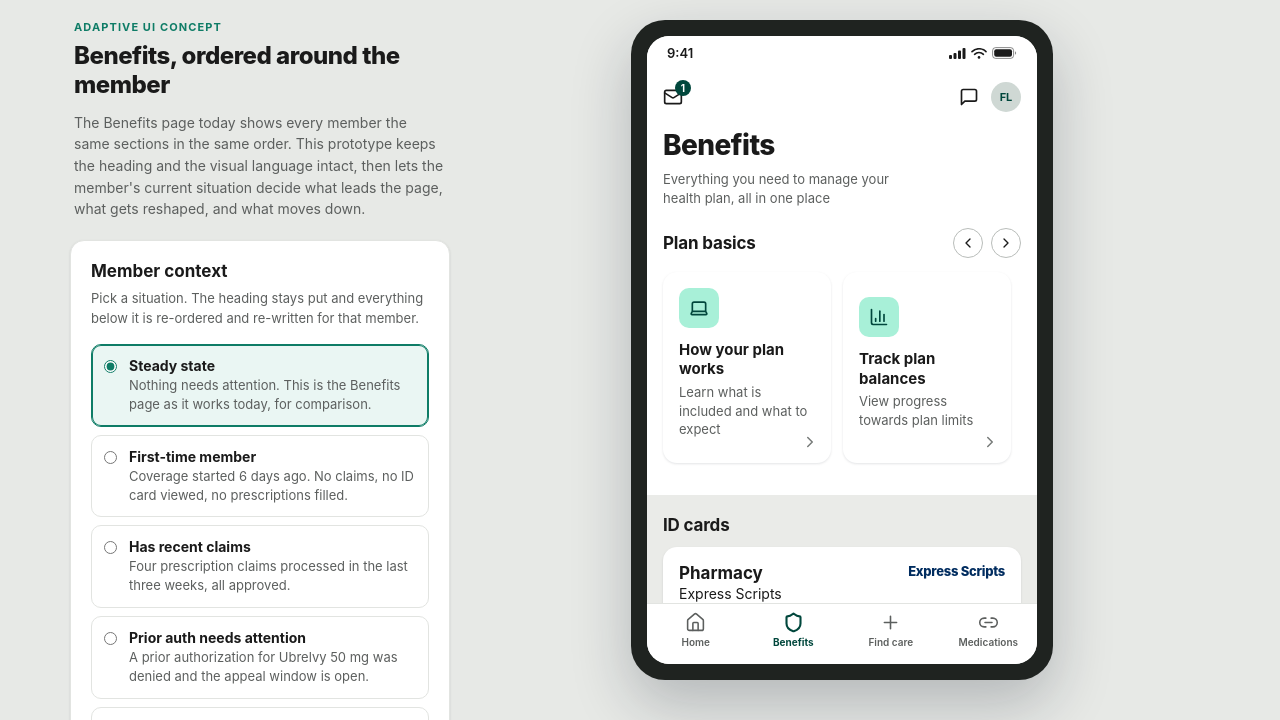
Test: App › opens a sub-page from a card and comes back
Click the button "How your plan works". click: (747, 367)
box: left=663, top=272, right=831, bottom=463
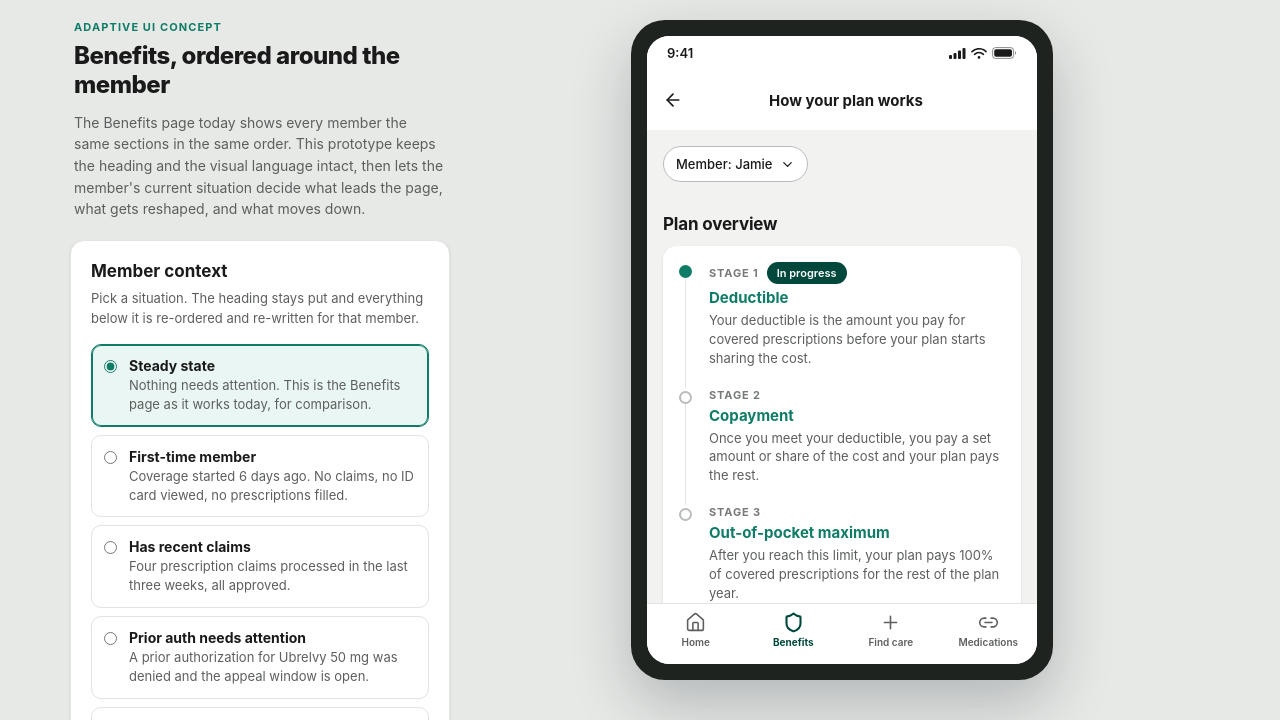
Check: the heading "How your plan works" is shown, box left=769, top=90, right=923, bottom=110
Click the button named "back". click: (673, 100)
box: left=655, top=82, right=691, bottom=118
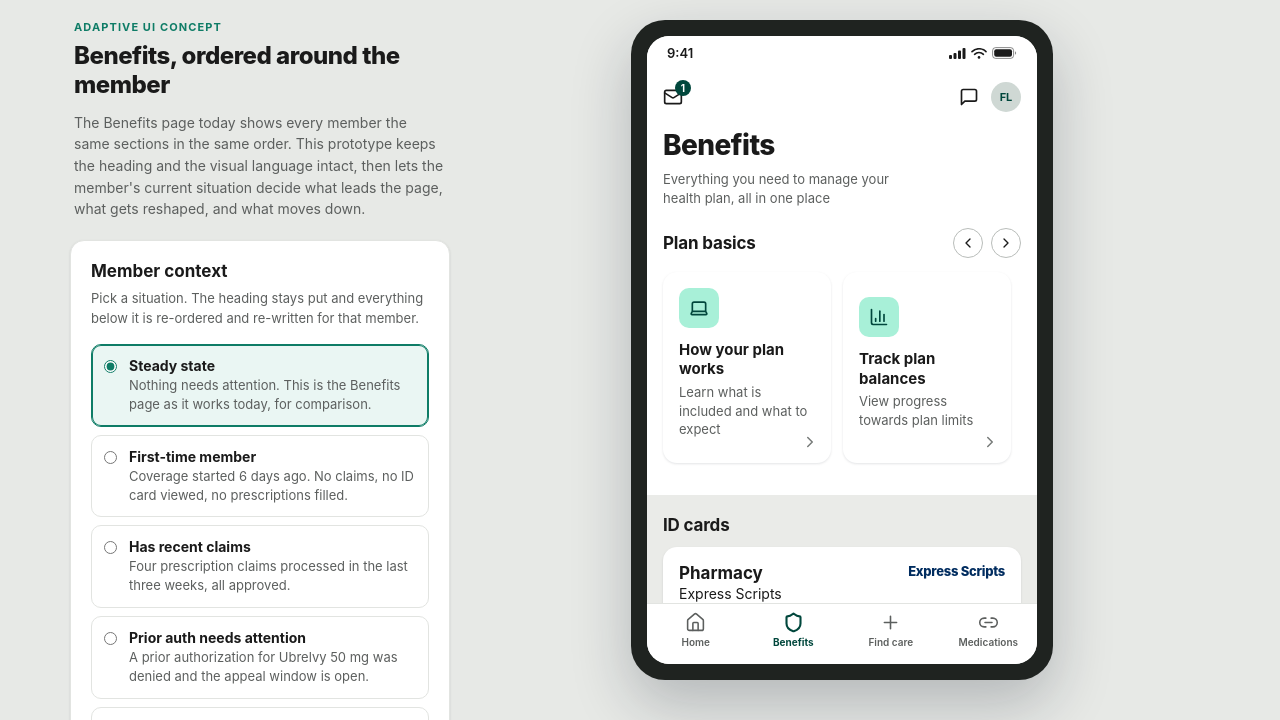
Check: the heading "Benefits" is shown, box left=663, top=128, right=775, bottom=162
